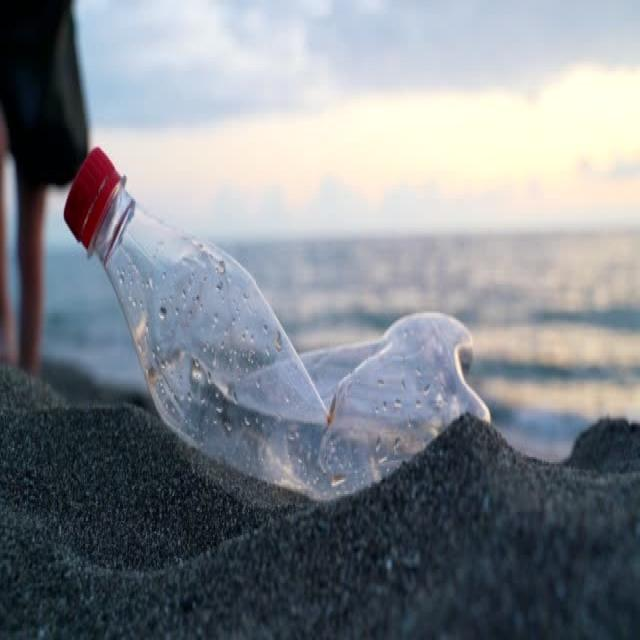plastic_bottle: (62, 144, 492, 505)
